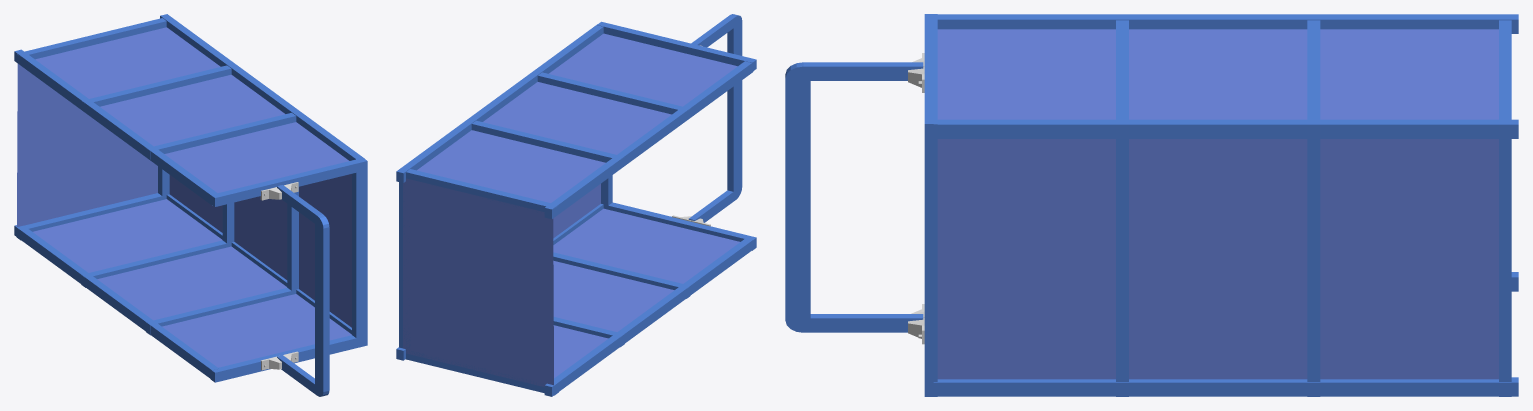
File: warehouse_cage.glb
3 views of the same model, side by side, from view 1: azimuth 30°, elevation 25°; view 2: azimuth 150°, elevation 25°; view 3: azimuth 270°, elevation 25° (orthographic). The views are drawn at different scales.
Visible parts, largest first — view 1: Plane.013; view 2: Plane.013; view 3: Plane.013.
Boxes of the visible parts, x1,y1,x2,y2 form: Plane.013: (14,14,367,396); Plane.013: (396,14,756,396); Plane.013: (785,14,1518,396).
Size of the model in its own units: 0.5235 by 0.6033 by 1.47.
